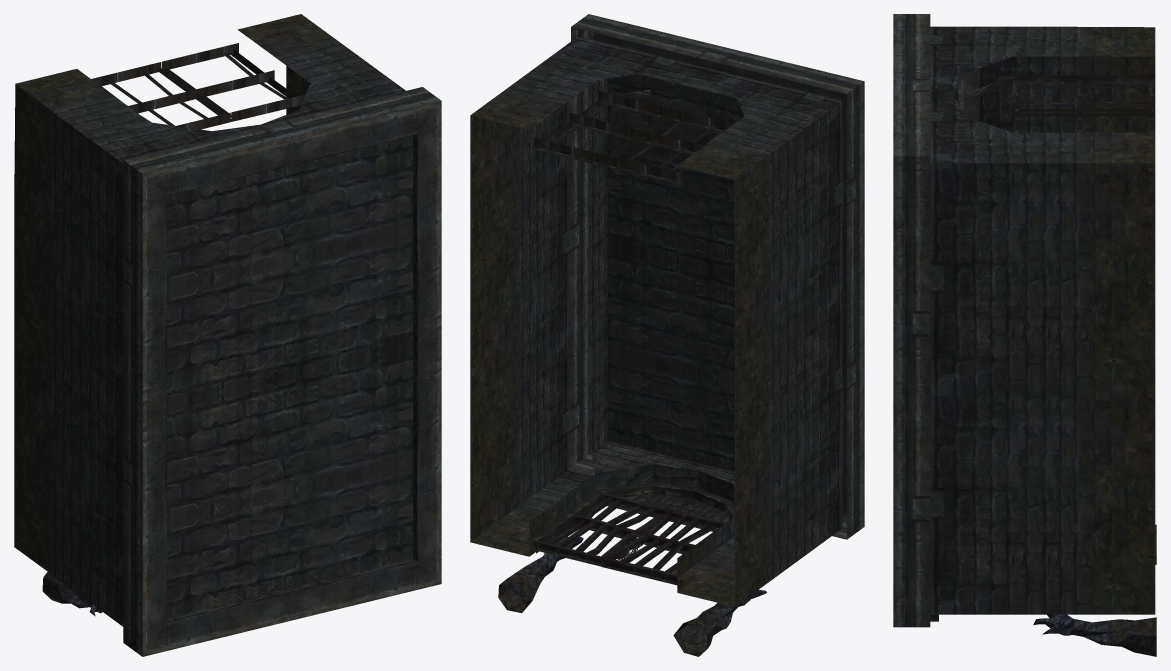
Rendered from tanxian_fuben_257_rukou.obj.
3 renders of one model, left to right at view 1: azimuth 30°, elevation 25°; view 2: azimuth 150°, elevation 25°; view 3: azimuth 270°, elevation 25°, orthographic. The views are drawn at different scales.
Visible parts, largest first — view 1: tanxian_fuben_257_rukou; view 2: tanxian_fuben_257_rukou; view 3: tanxian_fuben_257_rukou.
Boxes of the visible parts, bbox=[...] form: tanxian_fuben_257_rukou: bbox=[14, 14, 441, 656]; tanxian_fuben_257_rukou: bbox=[470, 14, 864, 656]; tanxian_fuben_257_rukou: bbox=[893, 14, 1156, 656].
Size of the model in its own units: 400 by 685 by 313.
4 materials, 4 textured.
